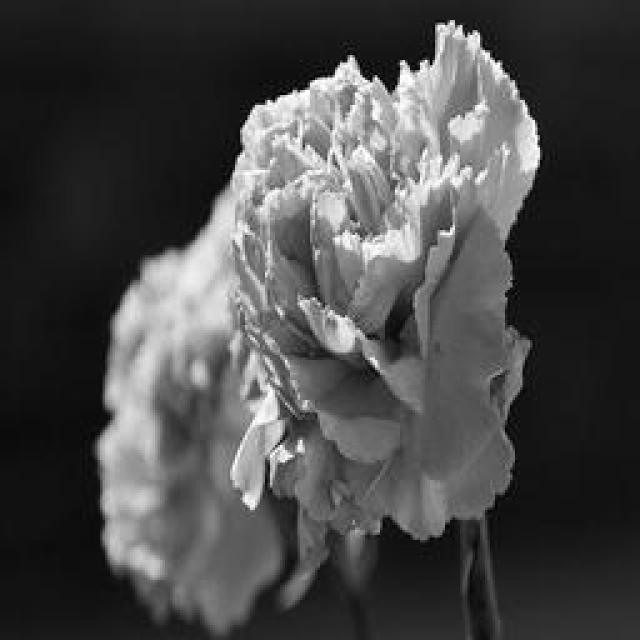carnation: (218, 27, 534, 553)
